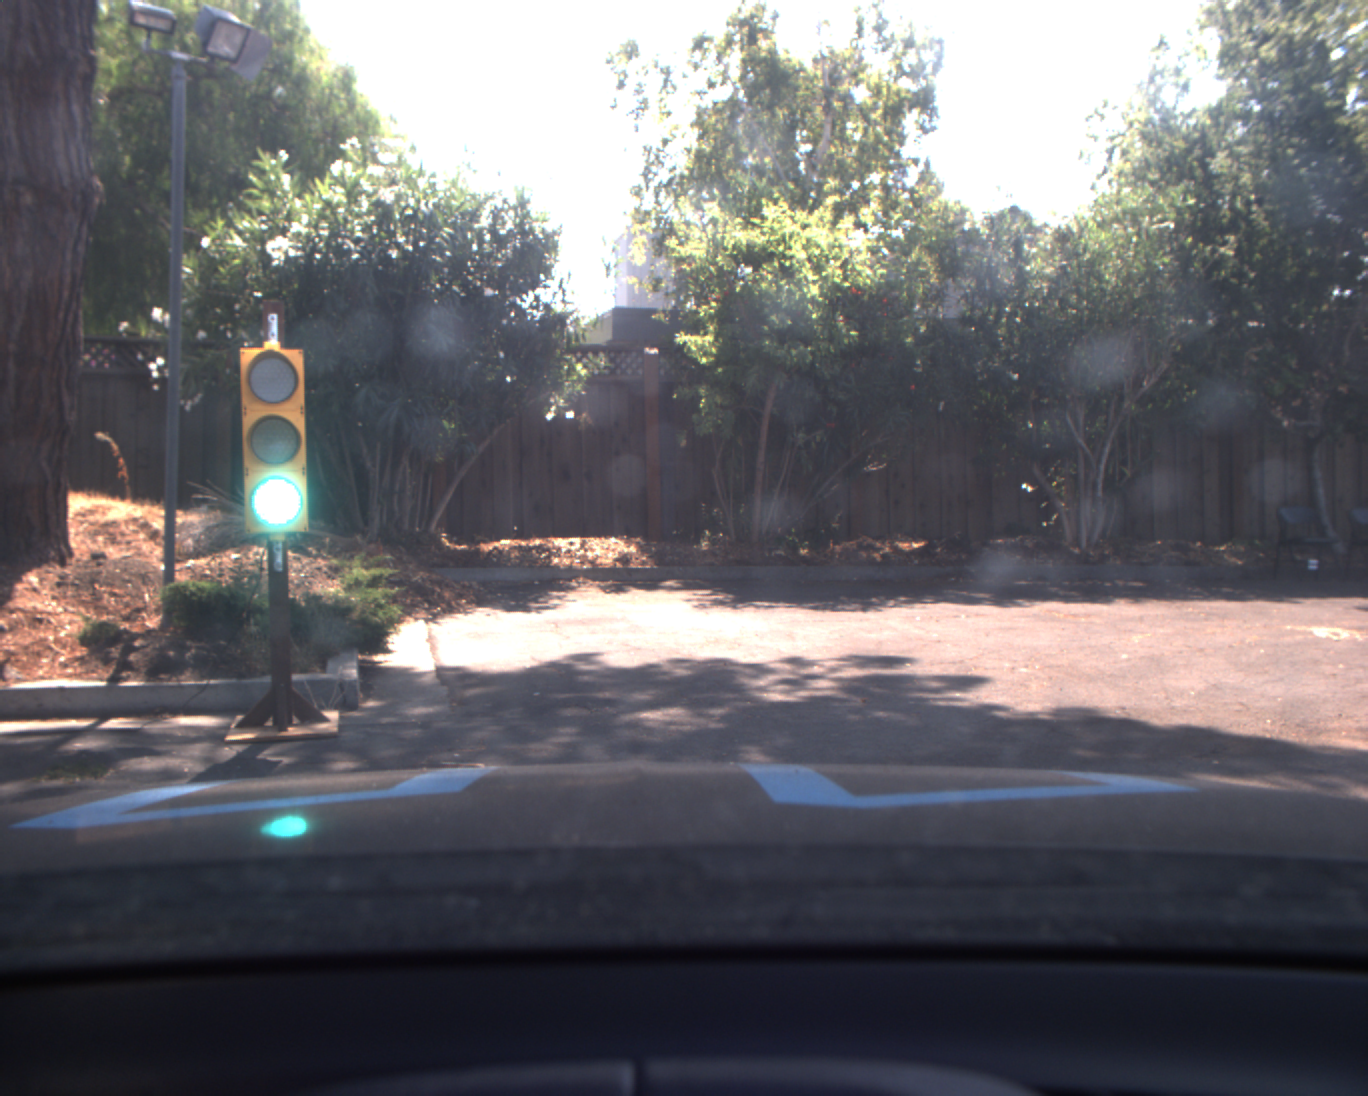green: (236, 342, 312, 537)
